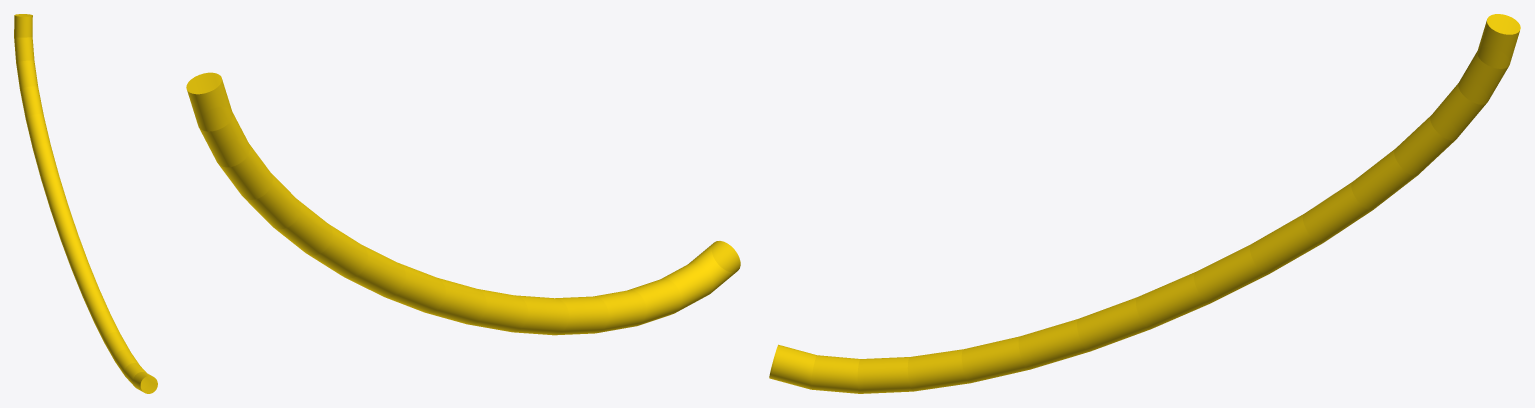
The model's file is Event_421127236_track_44.fbx.
3 renders of one model, left to right at view 1: azimuth 30°, elevation 25°; view 2: azimuth 150°, elevation 25°; view 3: azimuth 270°, elevation 25°, orthographic. The views are drawn at different scales.
Visible parts, largest first — view 1: Model; view 2: Model; view 3: Model.
Boxes of the visible parts, box(x1,y1,x2,y2) form: Model: box(14, 14, 157, 393); Model: box(186, 72, 740, 335); Model: box(769, 14, 1520, 393).
Size of the model in its own units: 0.2079 by 0.5406 by 0.8585.
